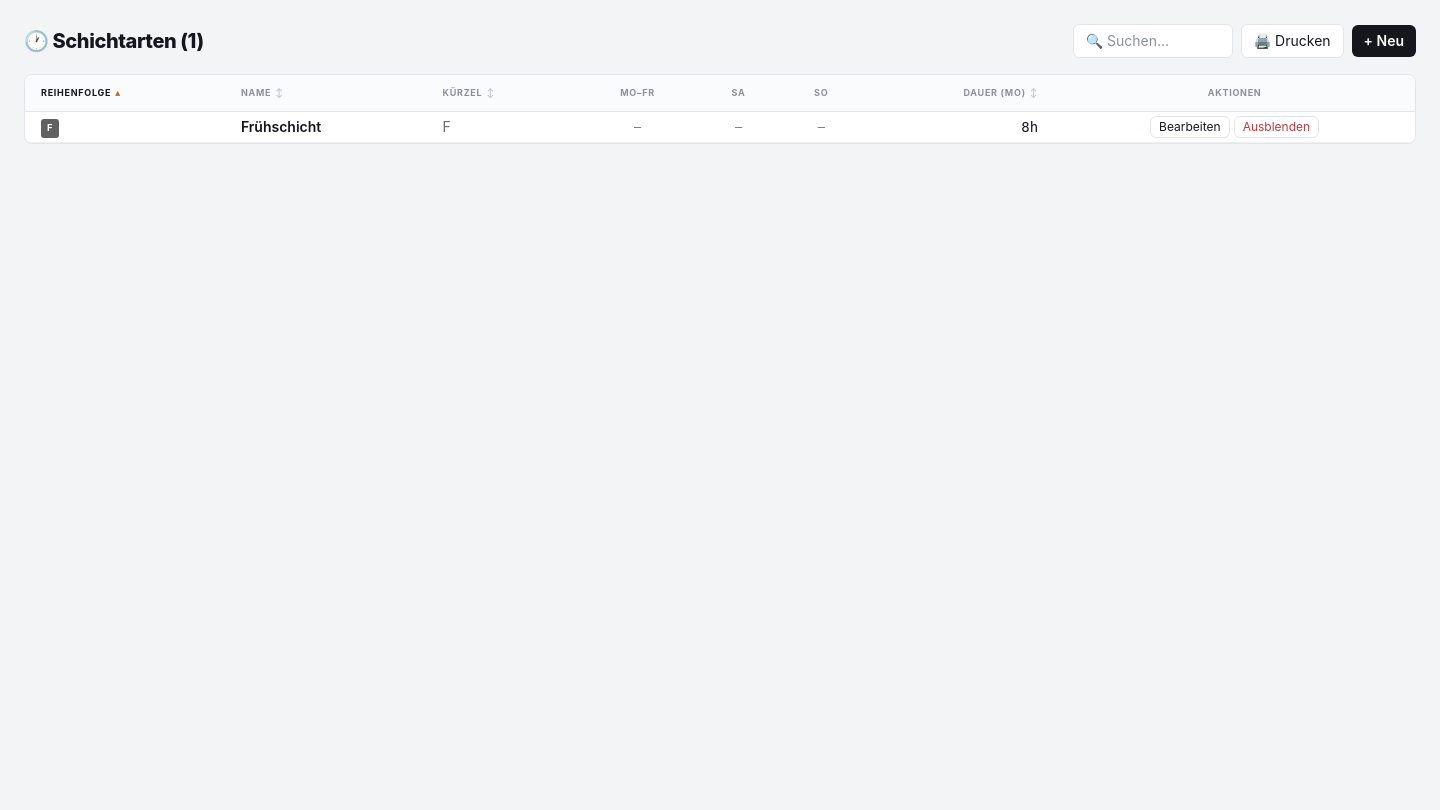
Test: Shifts Zeiten-Dialog (V-10) › berechnet die Arbeitszeit per 🧮 (Tageswechsel 22:00-06:00 → 8h)
expect the text "Frühschicht" is shown: met, box [225,112,426,142]
Click the button "+ Neu" at (1384, 41), box [1352,25,1416,57]
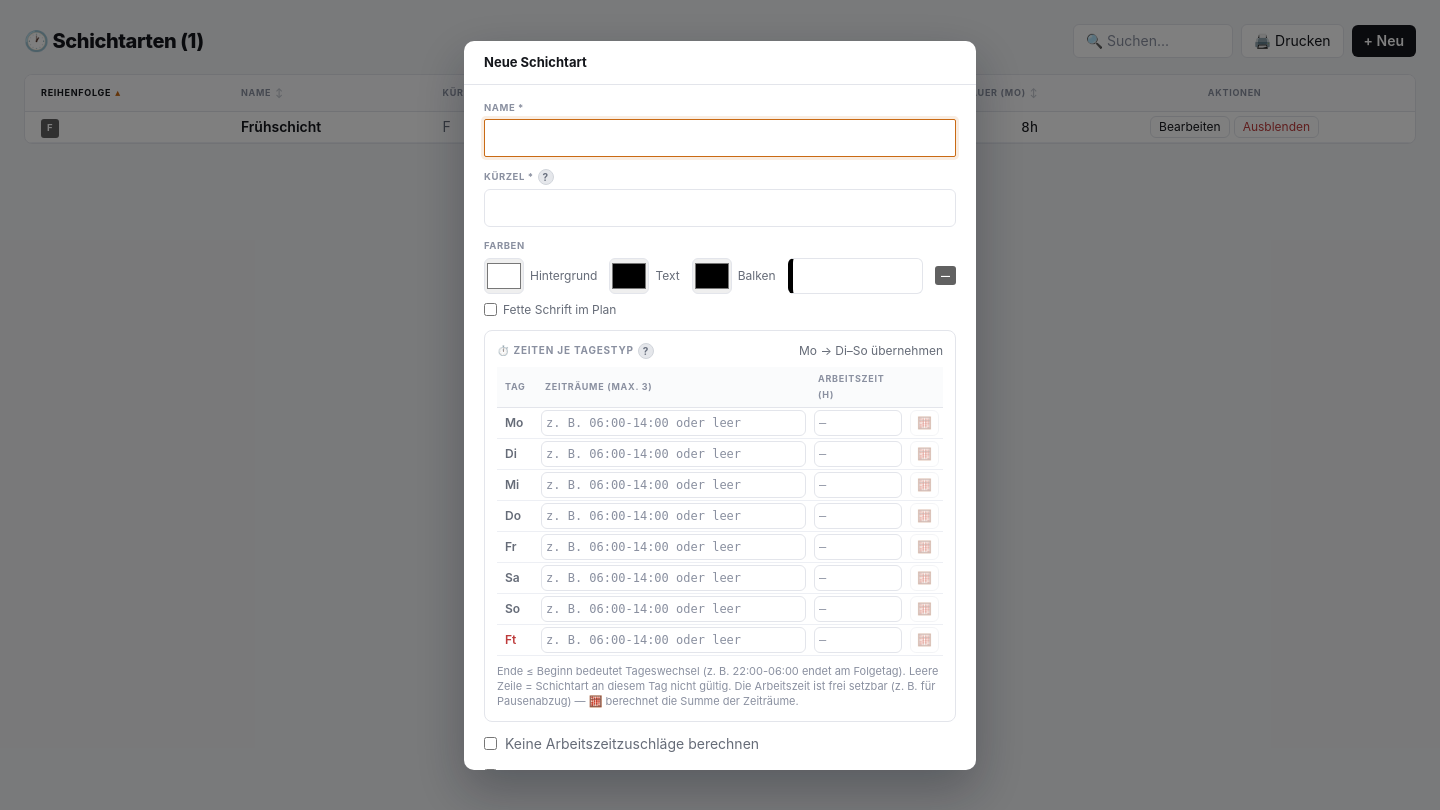
expect the heading "Neue Schichtart" is shown: met, box [464,40,976,85]
Type "22:00-06:00" into the field named "Zeiträume Mo" at (674, 422), box [541,410,806,436]
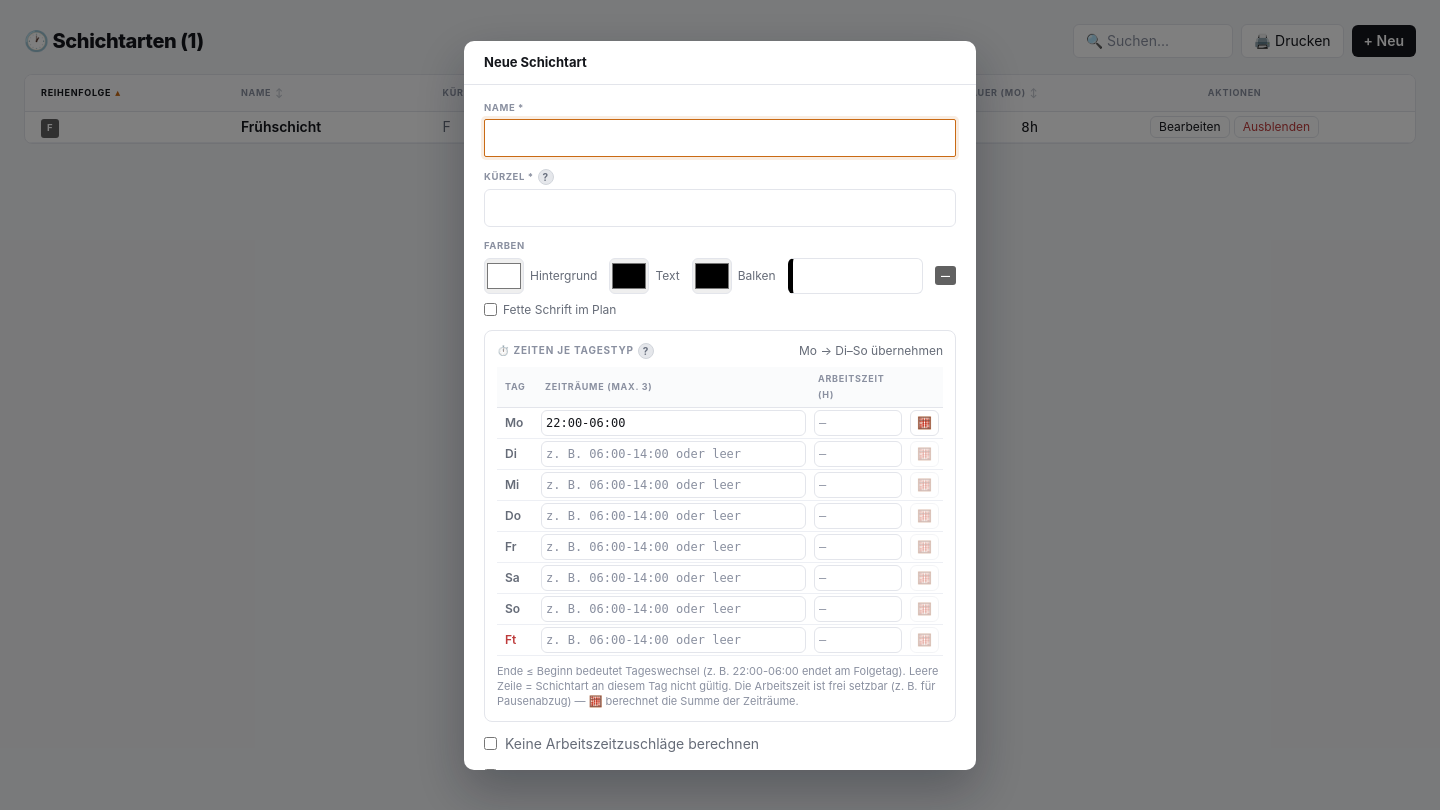
Click the button named "Arbeitszeit Mo berechnen" at (924, 422), box [910,410,939,436]
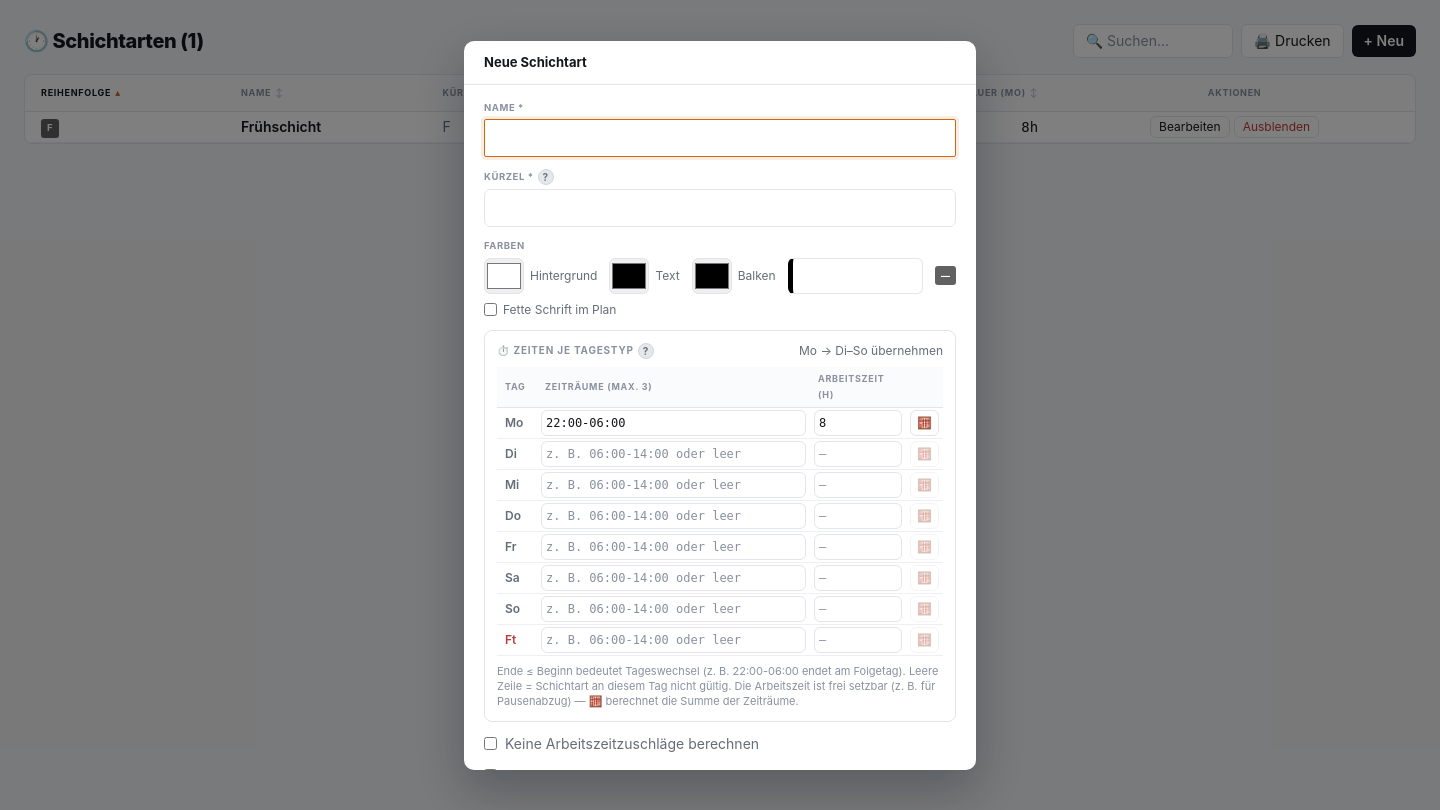
expect the number field named "Arbeitszeit Mo" holds "8": met, box [814,410,902,436]
